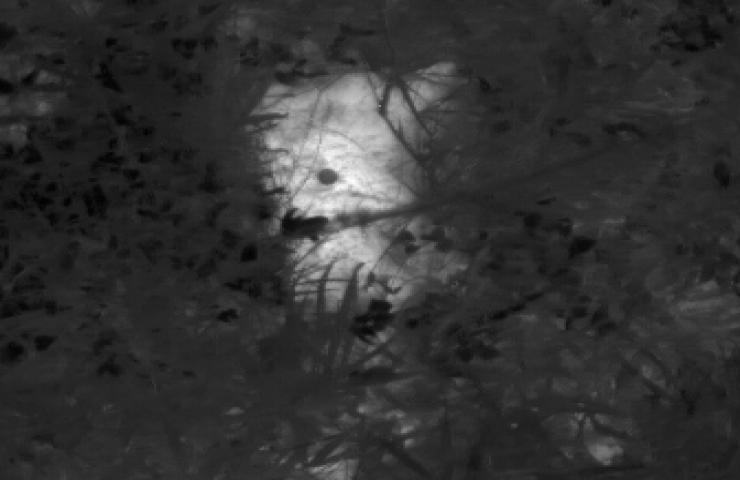landmines: (244, 58, 501, 324)
